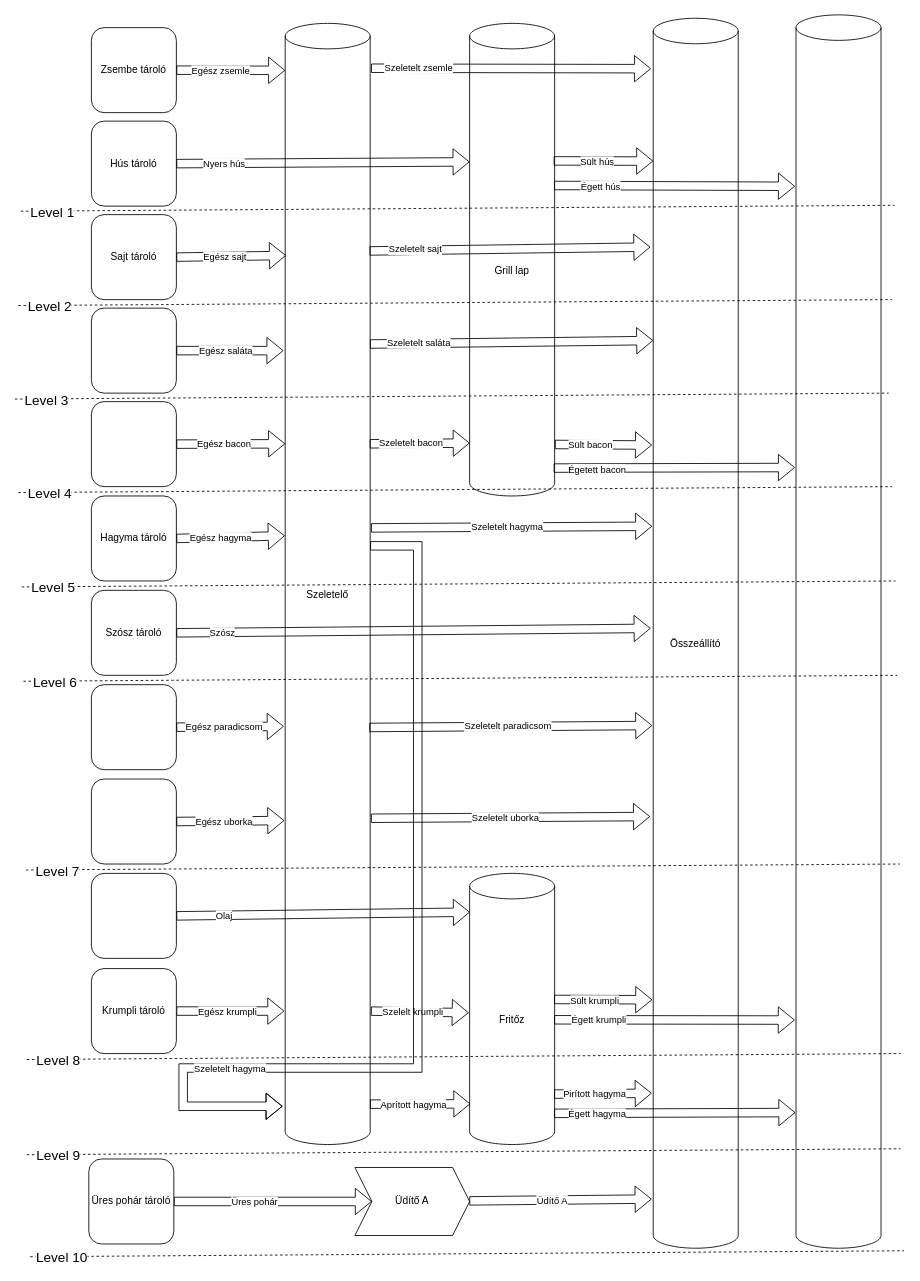
Some shapes in this 920 by 1281 pixel diagram are drawn without their labels. Here are the shapes that lost their labels. From the top down, the centre of each, then its label:
At point 133,350: "Saláta tároló".
At point 133,444: "Bacon tároló".
At point 838,631: "Kuka".
At point 133,727: "Paradicsom tároló".
At point 133,821: "Uborka tároló".
At point 133,915: "Olaj tároló".
